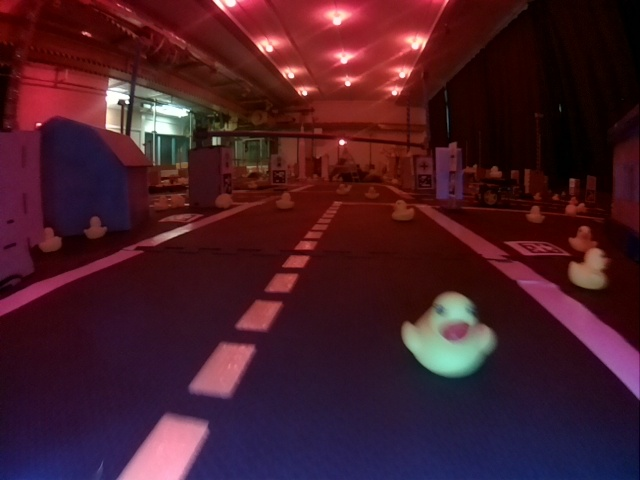Duckie: (401, 295, 495, 378), (570, 252, 607, 287), (570, 226, 597, 249), (38, 228, 61, 250), (392, 200, 415, 220), (86, 216, 106, 237), (527, 205, 544, 219), (277, 191, 290, 209), (337, 185, 347, 193)
QR code: (509, 241, 566, 256), (162, 214, 198, 223)
